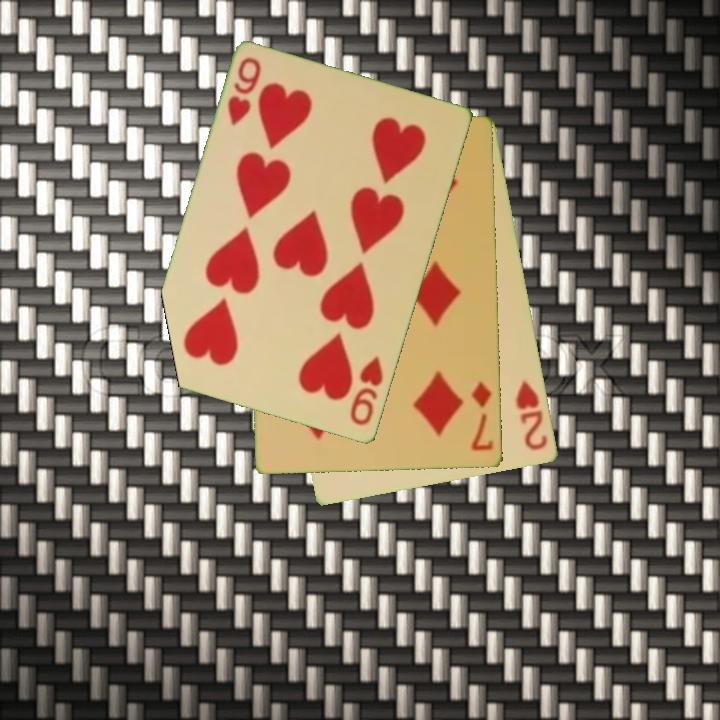2h: (512, 377, 551, 454)
7d: (468, 378, 497, 455)
9h: (347, 353, 387, 429), (224, 54, 264, 129)
